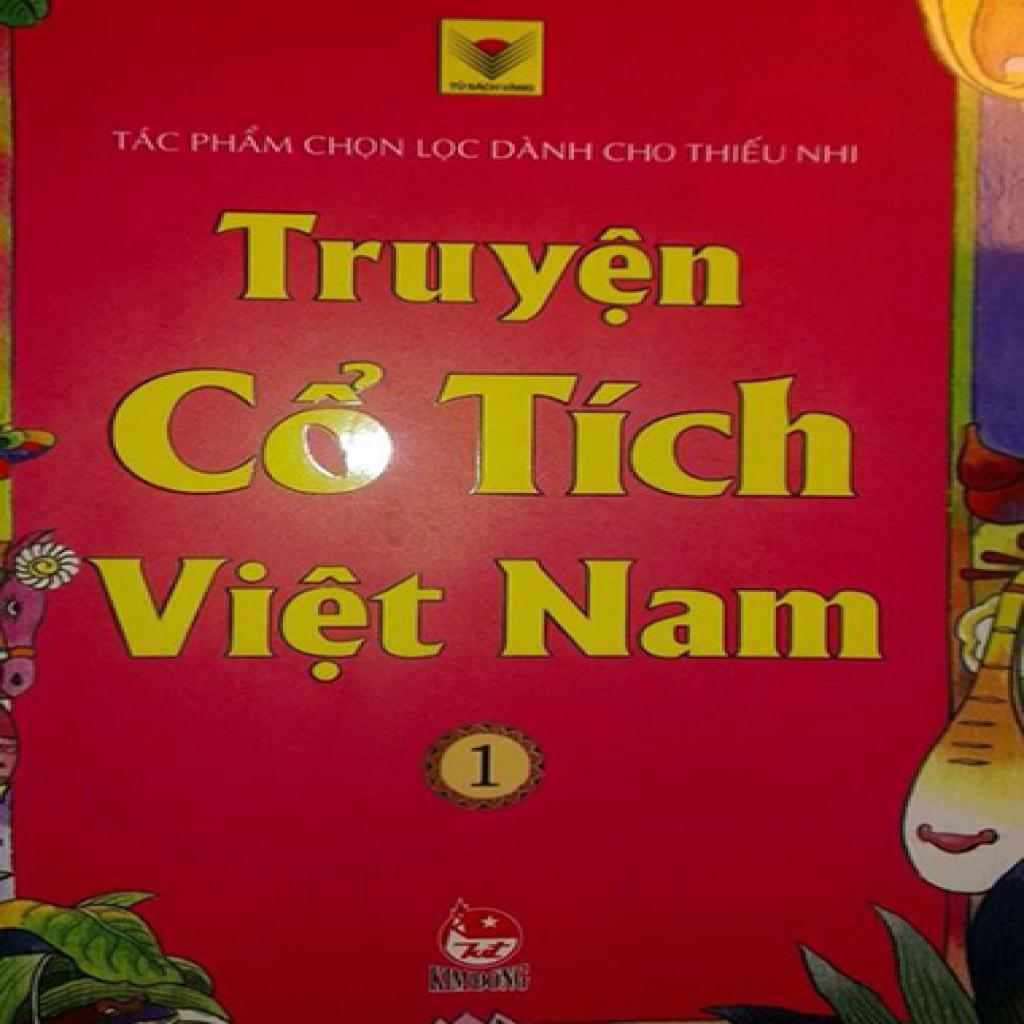text: (202, 204, 755, 327), (423, 364, 873, 508), (72, 550, 452, 685), (94, 354, 399, 501), (485, 562, 895, 668), (189, 124, 299, 162), (488, 132, 598, 168), (682, 135, 792, 168), (302, 133, 407, 166), (790, 139, 870, 169), (412, 137, 488, 168), (108, 126, 183, 156), (604, 139, 679, 166)
